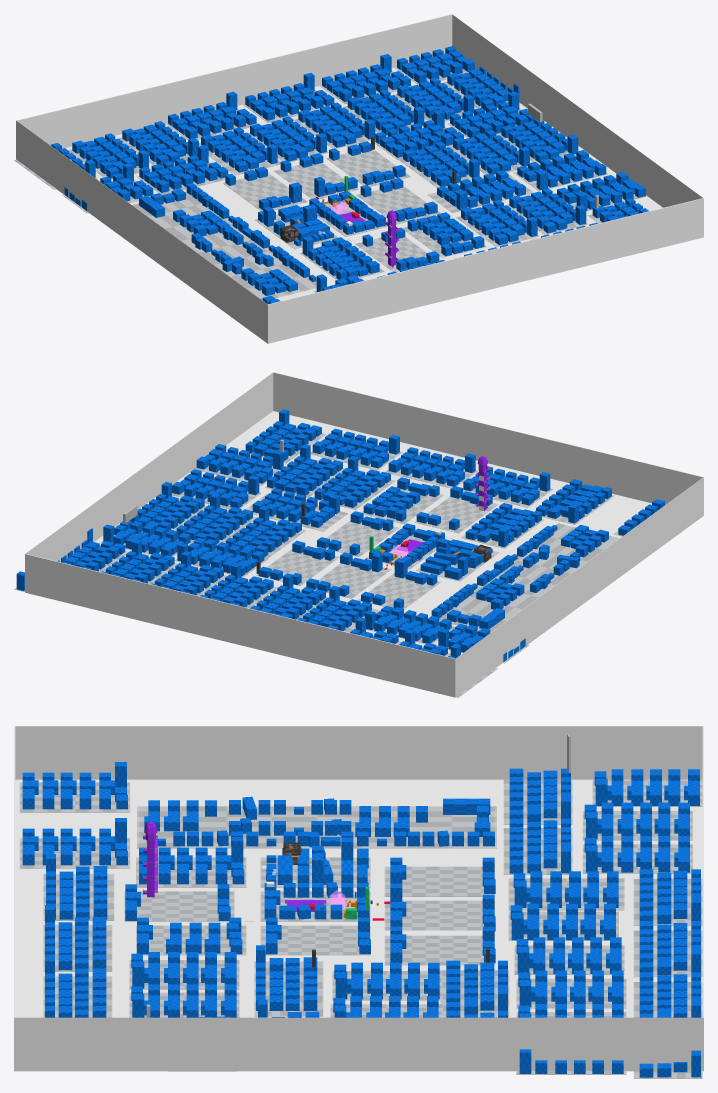
Rendered from town_bata_1.gltf.
The picture shows the model from 3 angles, top to bottom: view 1: azimuth 30°, elevation 25°; view 2: azimuth 150°, elevation 25°; view 3: azimuth 270°, elevation 25°; orthographic projection. The views are drawn at different scales.
Visible parts, largest first — view 1: District scale22, Block192, Block112, Block223, Block412, Block292, Block352, Block362, Block312, Block372, Block202, Block182 (+22 smaller); view 2: District scale22, Block192, Block112, Block223, Block152, Block162, Block212, Block202, Block182, Block72, Block142, Block132 (+21 smaller); view 3: District scale22, Block192, Block112, Block123, Block132, Block223, Block292, Block72, Block282, Block302, Block323, Block272 (+26 smaller).
Part boxes in pixels (x1,y1,x2,y2): District scale22: [16, 14, 703, 343]; Block192: [139, 189, 539, 295]; Block112: [132, 191, 316, 299]; Block223: [427, 170, 533, 212]; Block412: [137, 145, 228, 194]; Block292: [199, 127, 280, 175]; Block352: [165, 91, 258, 139]; Block362: [243, 73, 334, 122]; Block312: [294, 102, 375, 148]; Block372: [320, 54, 412, 104]; Block202: [514, 150, 608, 191]; Block182: [505, 188, 587, 234]; District scale22: [25, 372, 703, 697]; Block192: [314, 456, 608, 629]; Block112: [439, 523, 619, 632]; Block223: [246, 488, 348, 531]; Block152: [385, 447, 477, 488]; Block162: [310, 428, 402, 470]; Block212: [193, 444, 283, 485]; Block202: [172, 469, 261, 509]; Block182: [265, 444, 345, 498]; Block72: [461, 503, 544, 548]; Block142: [463, 466, 552, 507]; Block132: [534, 479, 614, 524]; District scale22: [14, 726, 703, 1071]; Block192: [129, 798, 490, 989]; Block112: [136, 806, 497, 848]; Block123: [19, 762, 130, 812]; Block132: [19, 818, 130, 868]; Block223: [254, 945, 323, 1016]; Block292: [508, 871, 624, 910]; Block72: [136, 837, 246, 887]; Block282: [582, 836, 692, 873]; Block302: [508, 903, 618, 940]; Block323: [516, 970, 626, 1008]; Block272: [582, 802, 692, 840].
Size of the model in its own units: 361 by 43.09 by 350.
